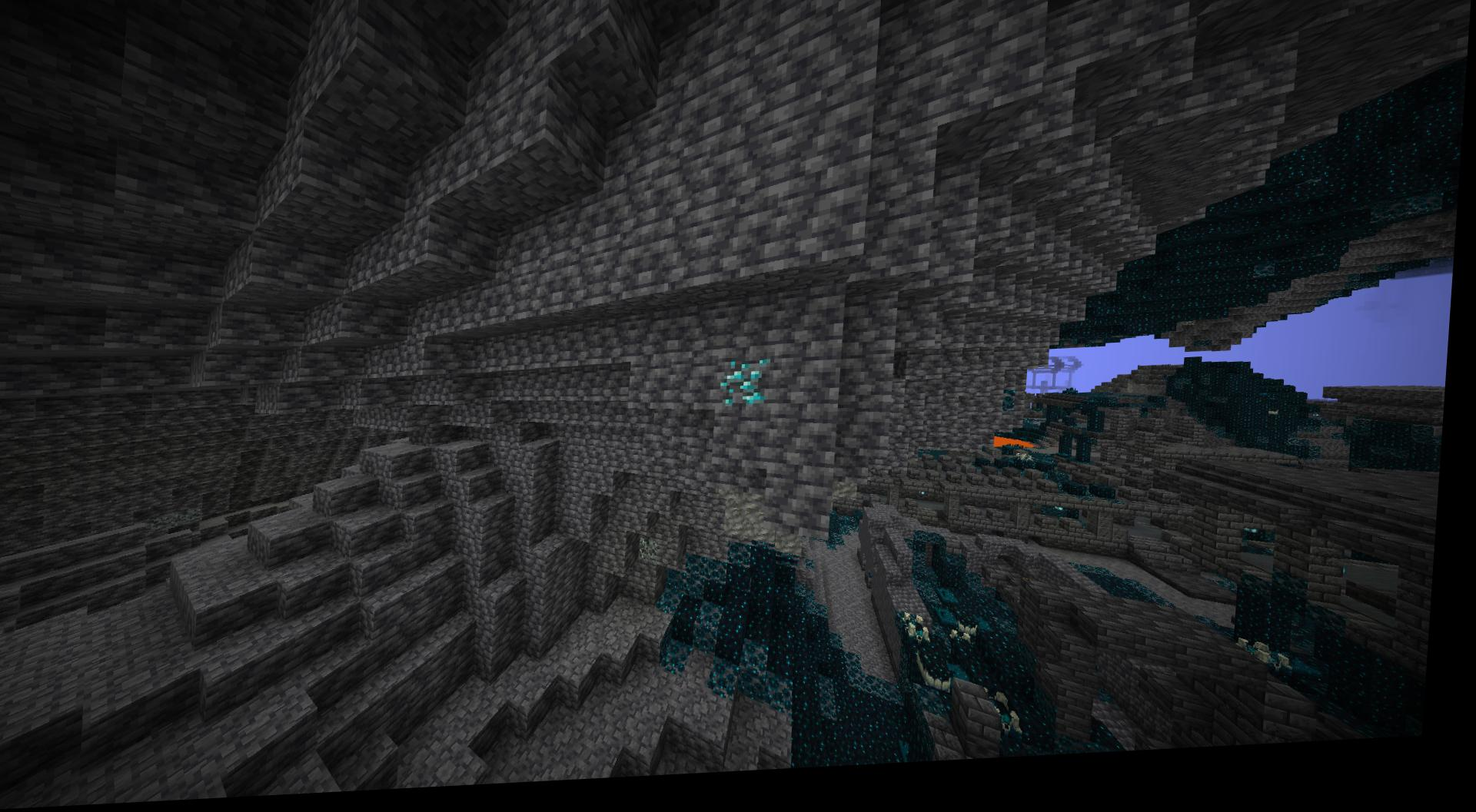diamond ore: (723, 367, 781, 417)
